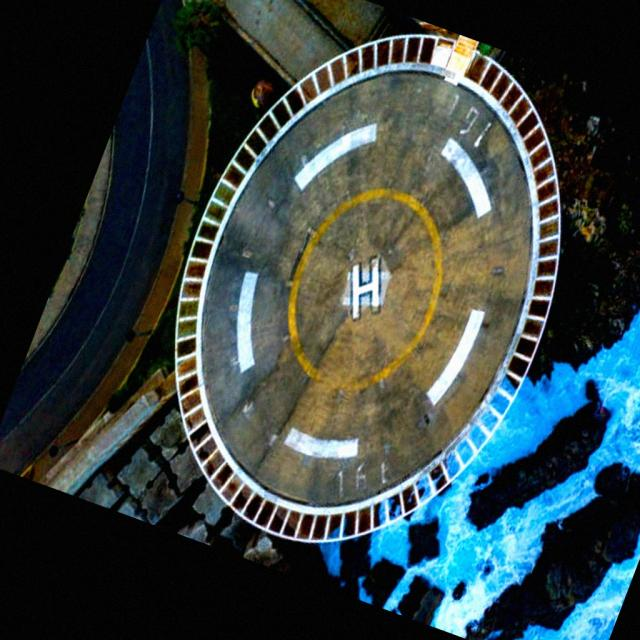helipad: (283, 184, 444, 393)
